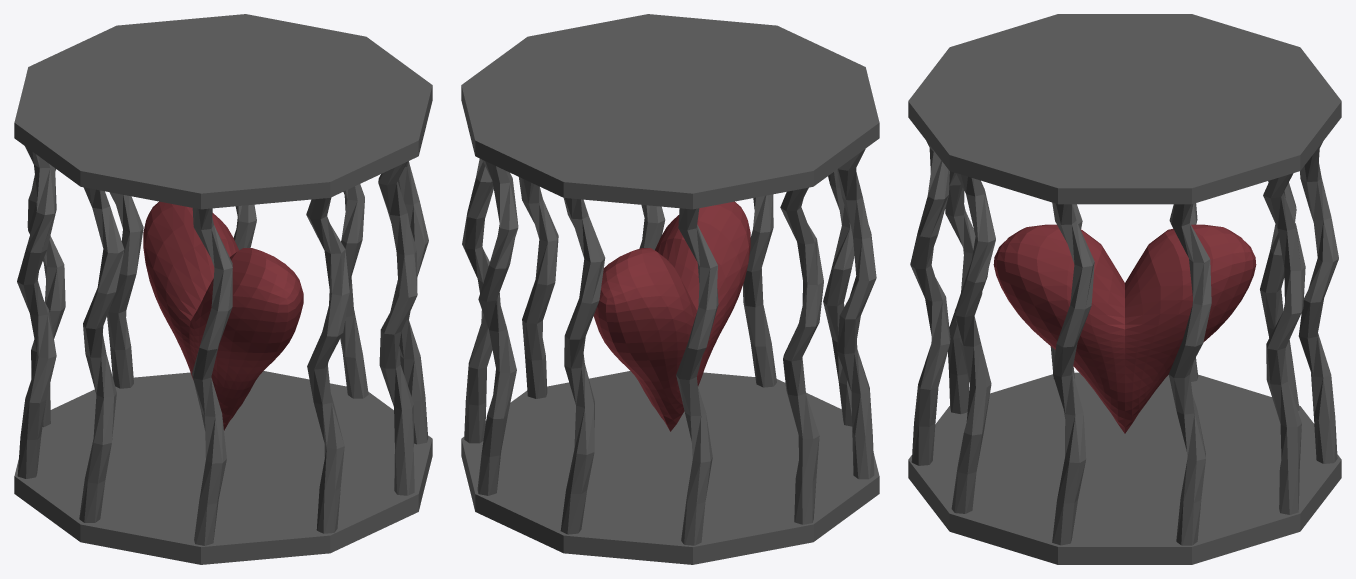
File: heart.dae
3 views of the same model, side by side, from view 1: azimuth 30°, elevation 25°; view 2: azimuth 150°, elevation 25°; view 3: azimuth 270°, elevation 25° (orthographic).
Visible parts, largest first — view 1: Cylinder_002, Cylinder, Cone, Cylinder_004, Cylinder_001, Cylinder_003, Cylinder_005, Cylinder_011, Cylinder_009, Cylinder_006, Cylinder_007, Cylinder_010 (+1 smaller); view 2: Cylinder_002, Cylinder, Cone, Cylinder_009, Cylinder_011, Cylinder_010, Cylinder_008, Cylinder_001, Cylinder_007, Cylinder_006, Cylinder_004, Cylinder_003 (+1 smaller); view 3: Cylinder_002, Cylinder, Cone, Cylinder_006, Cylinder_007, Cylinder_008, Cylinder_005, Cylinder_004, Cylinder_009, Cylinder_003, Cylinder_010.
Part boxes in pixels (left/top/right/bottom): Cylinder_002: left=14, top=14, right=432, bottom=209; Cylinder: left=14, top=371, right=432, bottom=564; Cone: left=143, top=201, right=303, bottom=430; Cylinder_004: left=306, top=197, right=349, bottom=533; Cylinder_001: left=79, top=187, right=124, bottom=522; Cylinder_003: left=192, top=208, right=232, bottom=545; Cylinder_005: left=378, top=162, right=417, bottom=495; Cylinder_011: left=17, top=146, right=56, bottom=478; Cylinder_009: left=107, top=192, right=143, bottom=388; Cylinder_006: left=390, top=161, right=428, bottom=444; Cylinder_007: left=340, top=184, right=368, bottom=398; Cylinder_010: left=27, top=168, right=65, bottom=427; Cylinder_002: left=461, top=14, right=879, bottom=209; Cylinder: left=461, top=371, right=879, bottom=564; Cone: left=593, top=201, right=750, bottom=431; Cylinder_009: left=560, top=198, right=605, bottom=534; Cylinder_011: left=780, top=187, right=823, bottom=524; Cylinder_010: left=676, top=208, right=718, bottom=545; Cylinder_008: left=477, top=159, right=518, bottom=495; Cylinder_001: left=837, top=149, right=876, bottom=479; Cylinder_007: left=462, top=158, right=500, bottom=443; Cylinder_006: left=519, top=177, right=558, bottom=398; Cylinder_004: left=743, top=194, right=776, bottom=387; Cylinder_003: left=823, top=170, right=854, bottom=426; Cylinder_002: left=908, top=14, right=1341, bottom=204; Cylinder: left=908, top=372, right=1341, bottom=564; Cone: left=993, top=224, right=1256, bottom=433; Cylinder_006: left=1052, top=202, right=1094, bottom=545; Cylinder_007: left=1168, top=204, right=1211, bottom=545; Cylinder_008: left=1263, top=173, right=1305, bottom=514; Cylinder_005: left=951, top=173, right=995, bottom=513; Cylinder_004: left=910, top=141, right=950, bottom=465; Cylinder_009: left=1298, top=142, right=1338, bottom=463; Cylinder_003: left=945, top=171, right=982, bottom=414; Cylinder_010: left=1260, top=180, right=1299, bottom=410.
Bounding box in the file's own units: 10.42 × 10.96 × 10.51.
